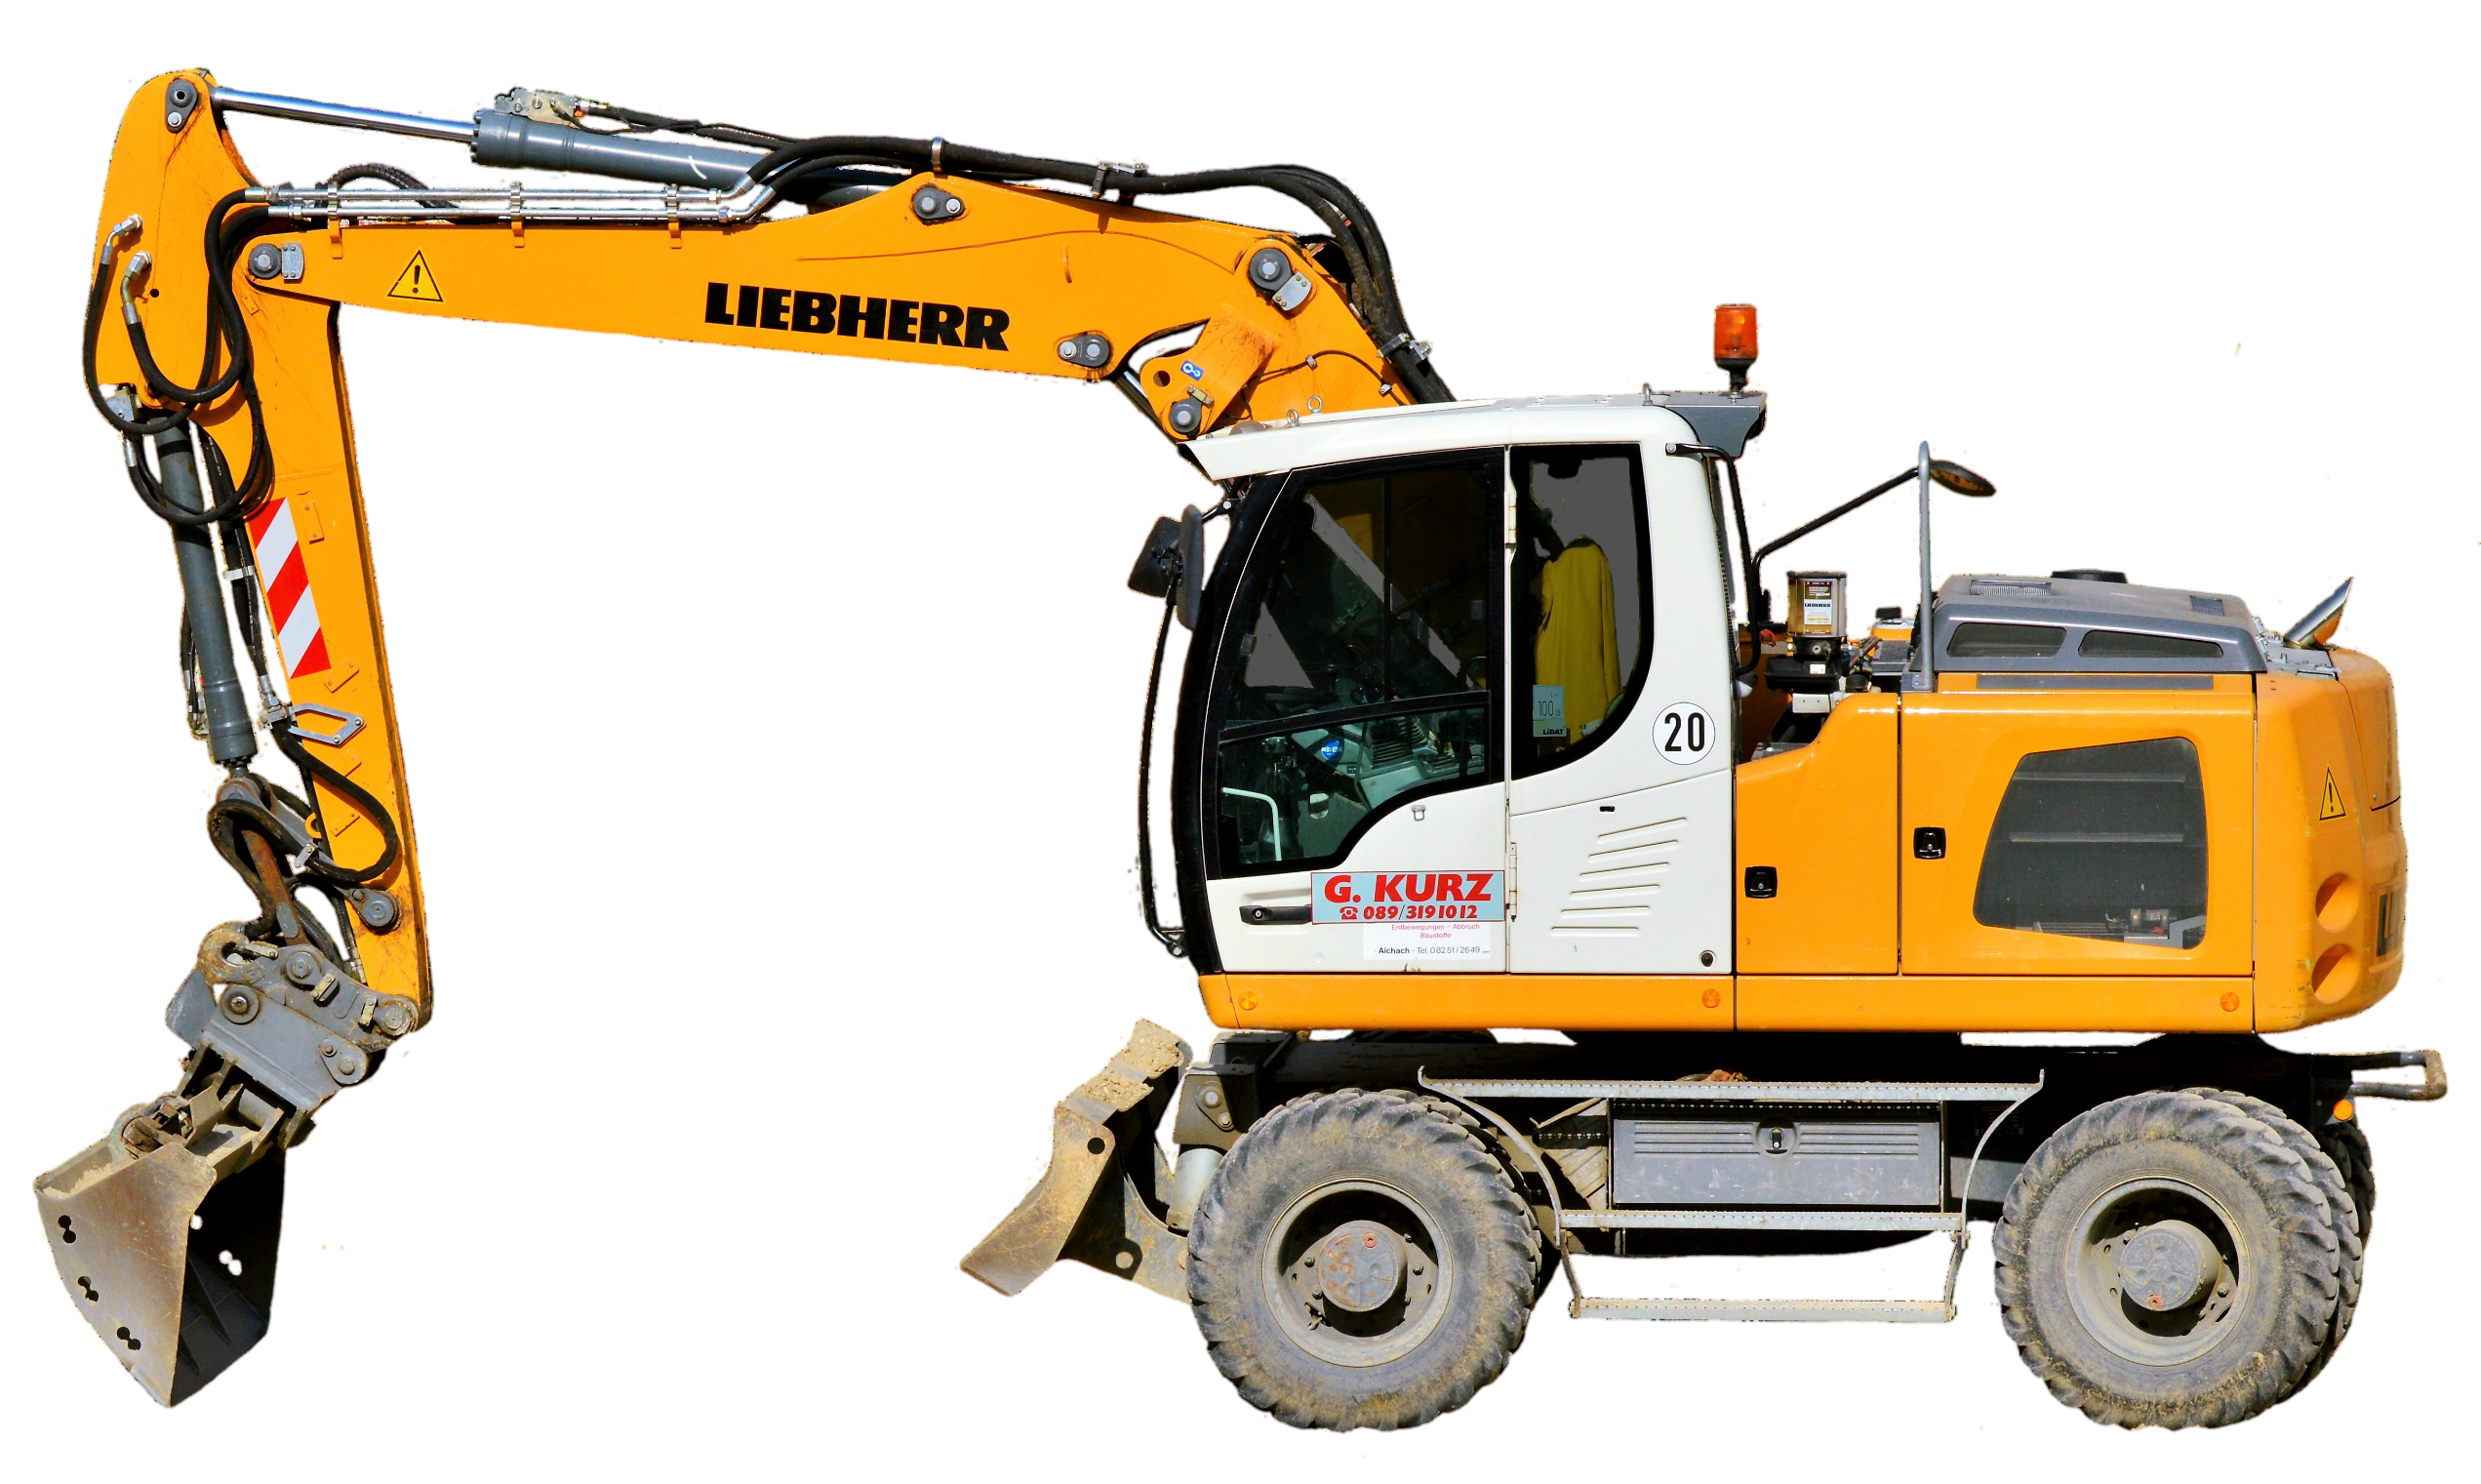excavator: (37, 35, 2391, 1445)
